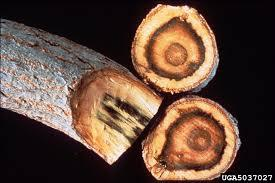Verticillium wilt: (145, 17, 204, 80), (165, 116, 218, 164), (98, 94, 149, 131)
